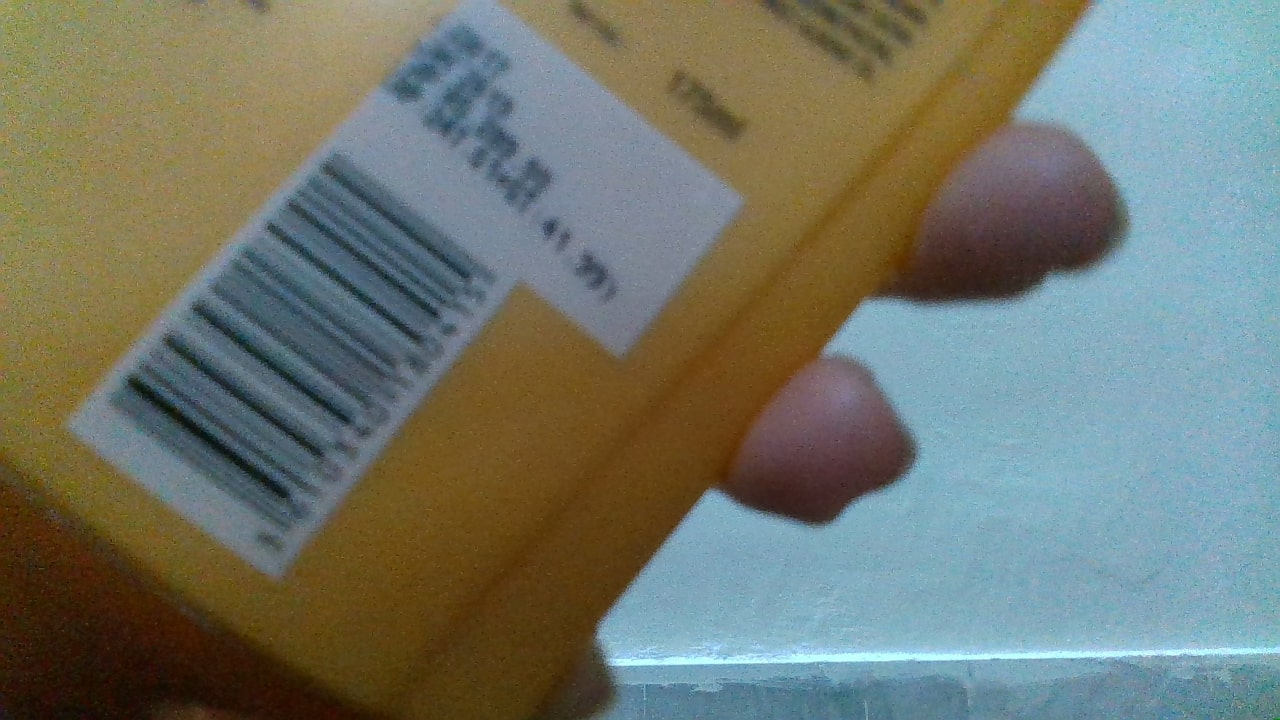Barcode: (103, 148, 500, 539)
